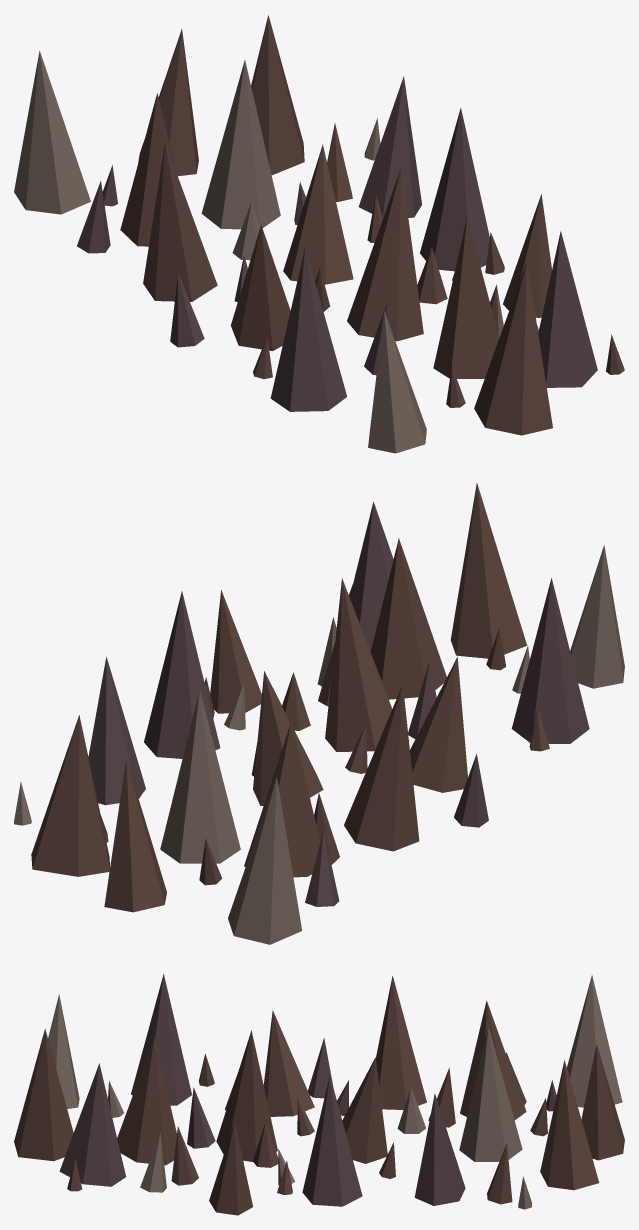
File: tile3_spikes.fbx
3 views of the same model, one above another, from view 1: azimuth 30°, elevation 25°; view 2: azimuth 150°, elevation 25°; view 3: azimuth 270°, elevation 25° (orthographic). The views are drawn at different scales.
Visible parts, largest first — view 1: Cone.029; view 2: Cone.029; view 3: Cone.029.
Boxes of the visible parts, box(x1,y1,x2,y2) form: Cone.029: box(14, 15, 624, 453); Cone.029: box(14, 483, 624, 944); Cone.029: box(14, 974, 624, 1215).
Size of the model in its own units: 0.8782 by 0.4214 by 1.73.
